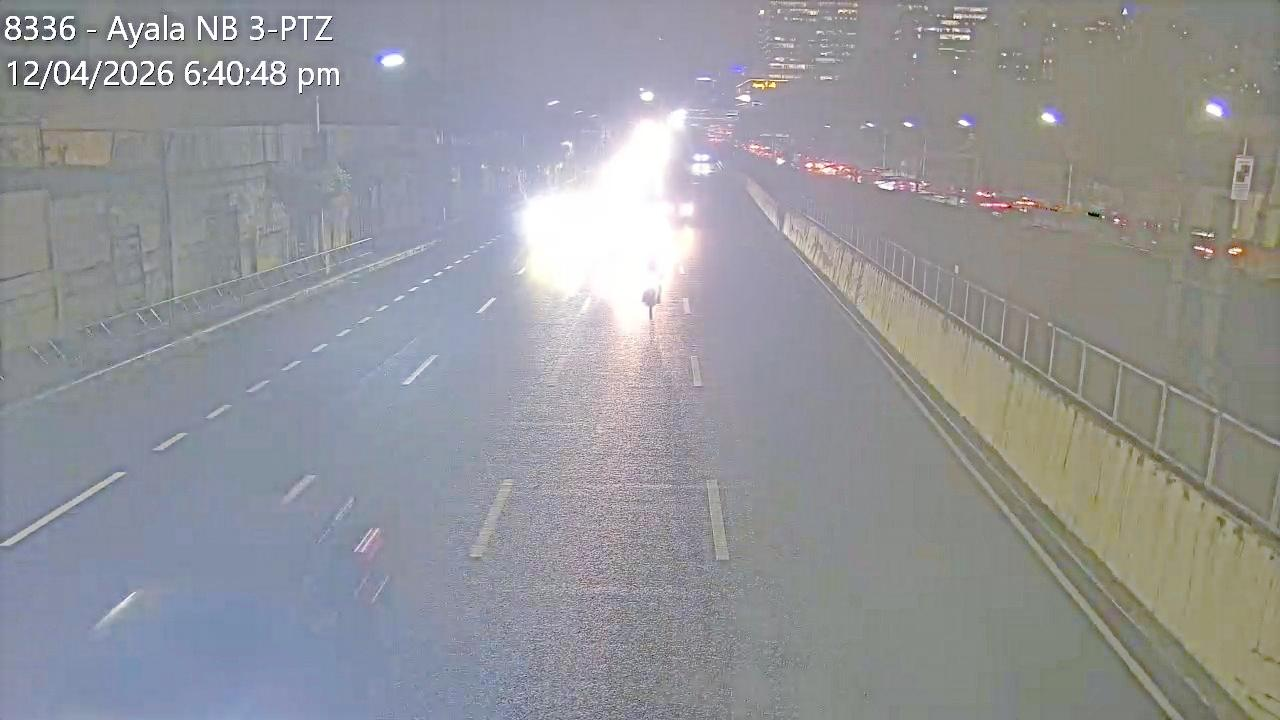Motor: (634, 245, 672, 316)
